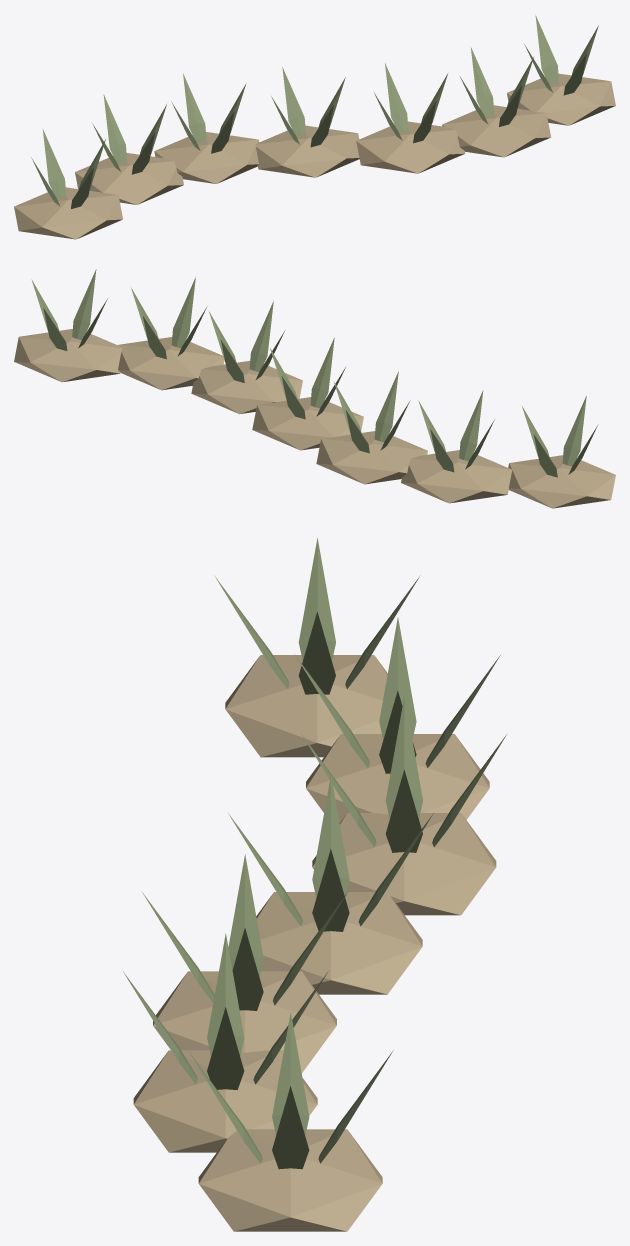
File: map-exclusive-v3__shore_15.glb
3 renders of one model, top to bottom at view 1: azimuth 30°, elevation 25°; view 2: azimuth 150°, elevation 25°; view 3: azimuth 270°, elevation 25°, orthographic. The views are drawn at different scales.
Visible parts, largest first — view 1: shore_15; view 2: shore_15; view 3: shore_15.
Part boxes in pixels (x1,y1,x2,y2): shore_15: [14, 15, 615, 239]; shore_15: [14, 269, 615, 508]; shore_15: [123, 538, 506, 1231].
Size of the model in its own units: 3.25 by 0.42 by 0.9297.
